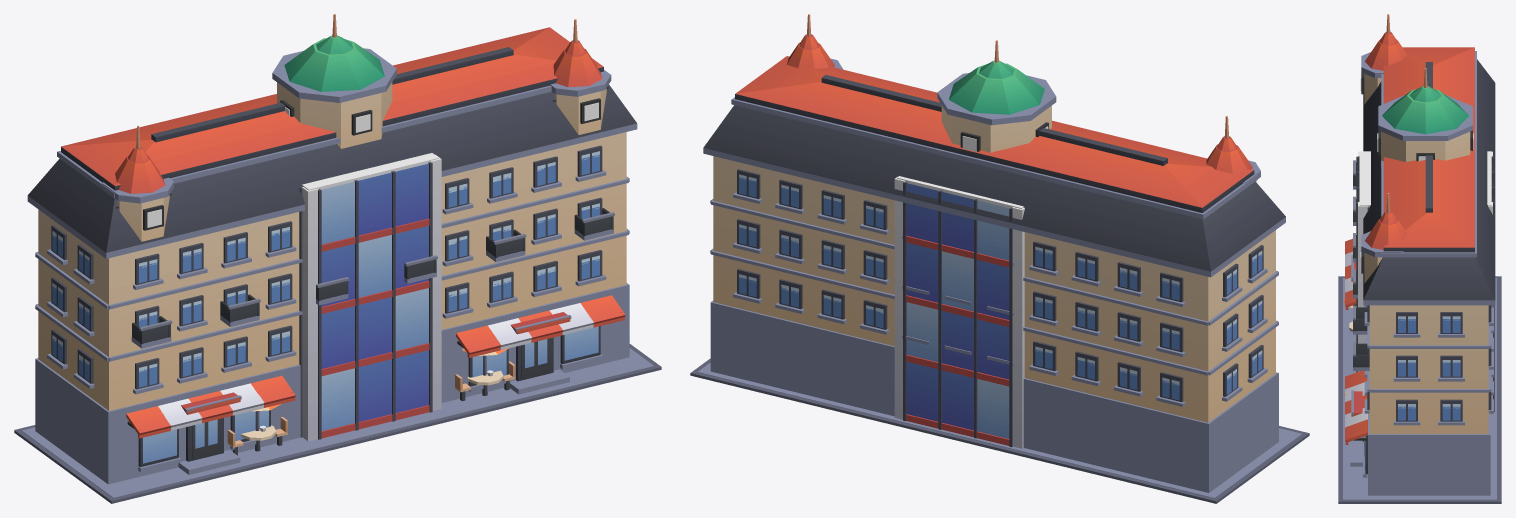
The model's file is com_grand_emporium_3x1.glb.
The picture shows the model from 3 angles, left to right: view 1: azimuth 30°, elevation 25°; view 2: azimuth 150°, elevation 25°; view 3: azimuth 270°, elevation 25°; orthographic projection. The views are drawn at different scales.
Visible parts, largest first — view 1: com_grand_emporium_3x1; view 2: com_grand_emporium_3x1; view 3: com_grand_emporium_3x1.
Part boxes in pixels (x1,y1,x2,y2): com_grand_emporium_3x1: (14,14,661,503); com_grand_emporium_3x1: (690,14,1309,503); com_grand_emporium_3x1: (1338,14,1501,503).
Bounding box in the file's own units: 5.74 × 3.83 × 1.76.
1 material, 1 textured.
